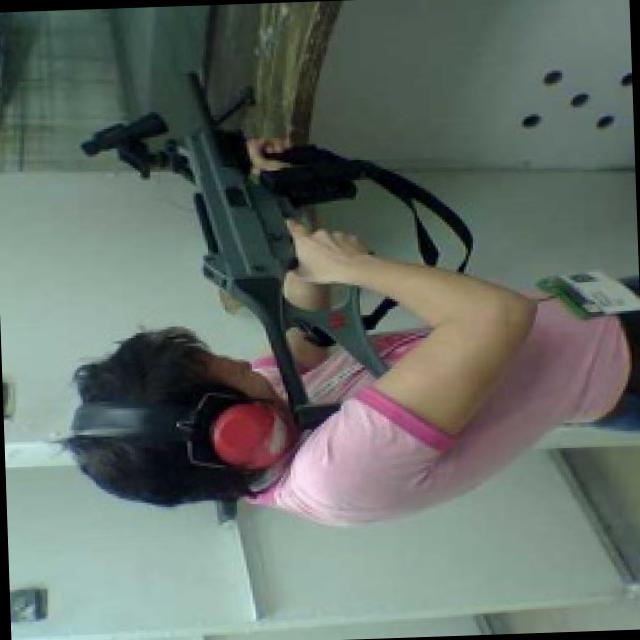long weapon: (163, 65, 384, 334)
